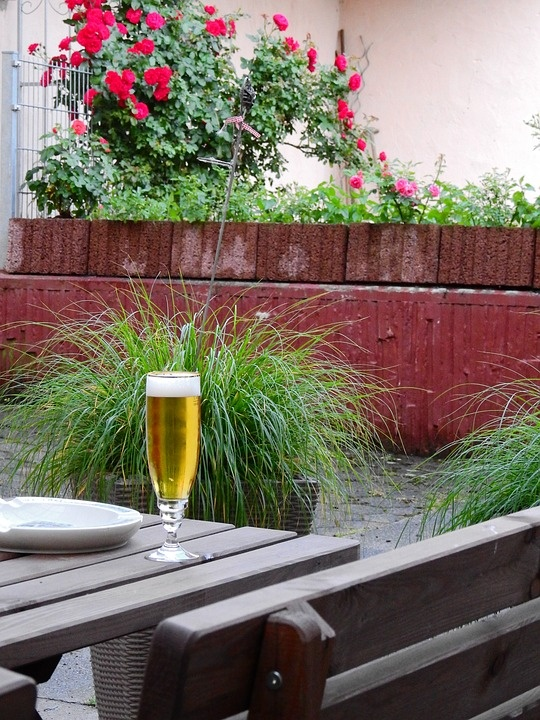glassBeer: (147, 369, 204, 558)
